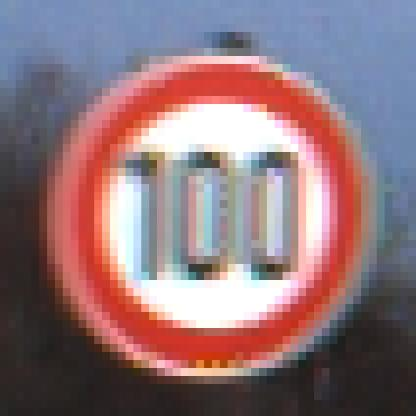Speed Limit 100: (58, 61, 364, 374)
